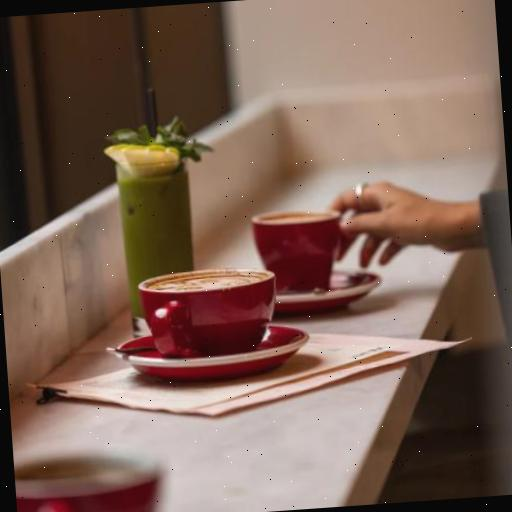cup: (136, 264, 280, 362), (250, 207, 347, 296)
